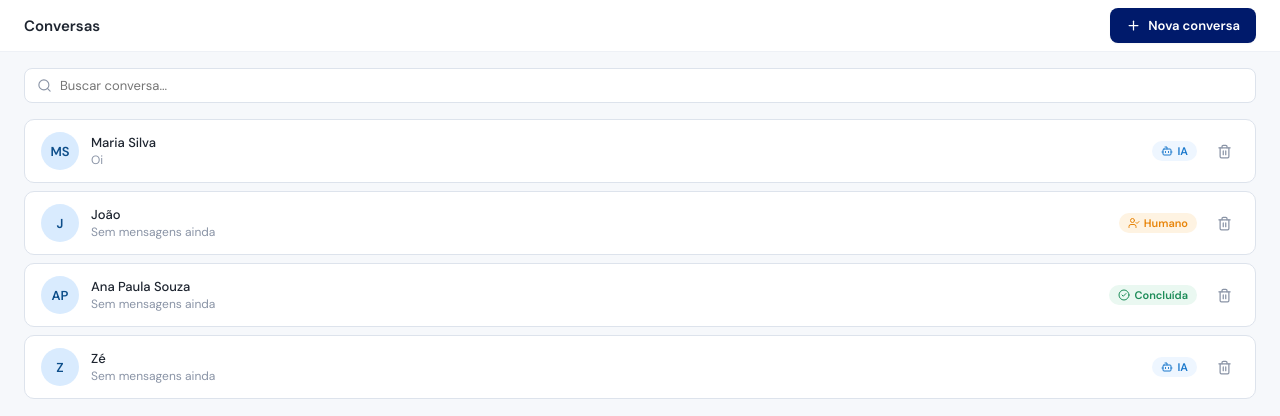
ListaConversas › apaga a conversa depois de confirmar
Expected: the text "Maria Silva" is shown, [91,134,156,151]
Click the button named "Apagar conversa" in the row of "Maria Silva": {"x": 1224, "y": 151} [1209,136,1239,166]
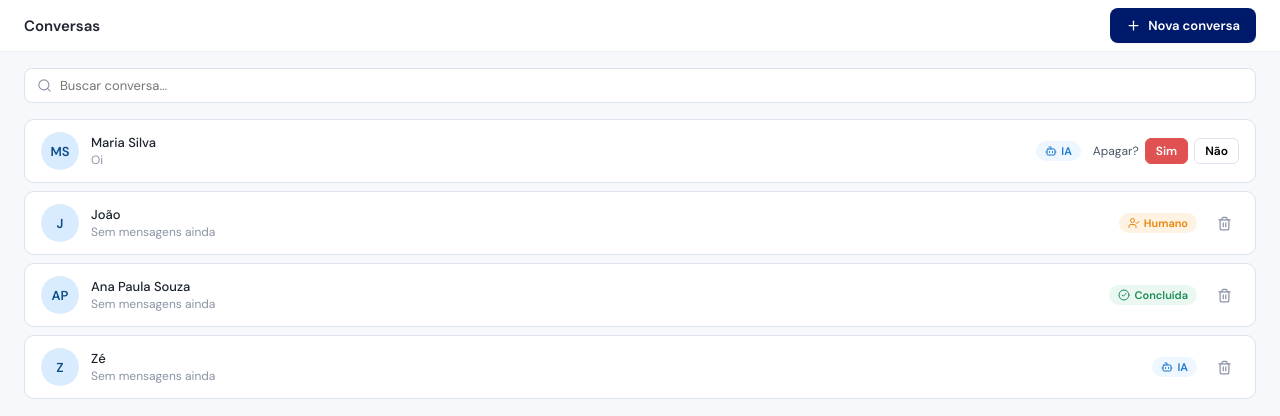
Result: the text "Apagar?" is shown at [1093,143,1139,159]
Click the button "Sim": {"x": 1167, "y": 151} [1145,138,1188,164]
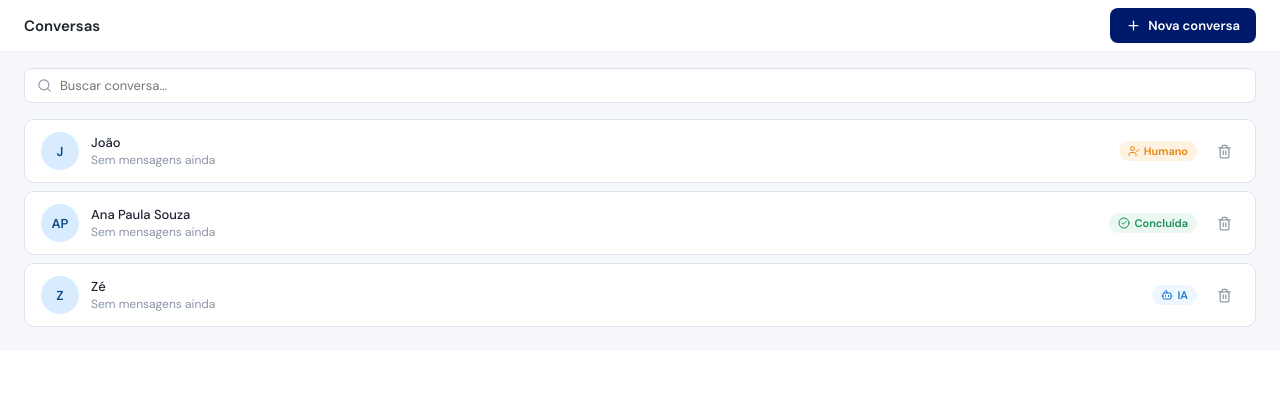
Result: the text "Maria Silva" is gone
